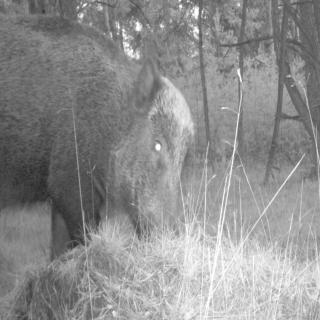Pig: (0, 15, 235, 255)
